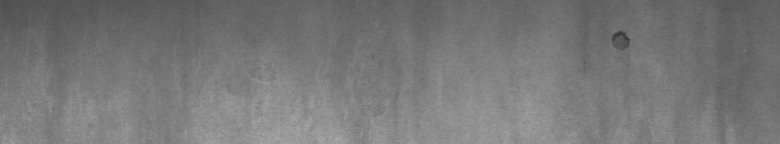fi: (608, 24, 632, 55)
